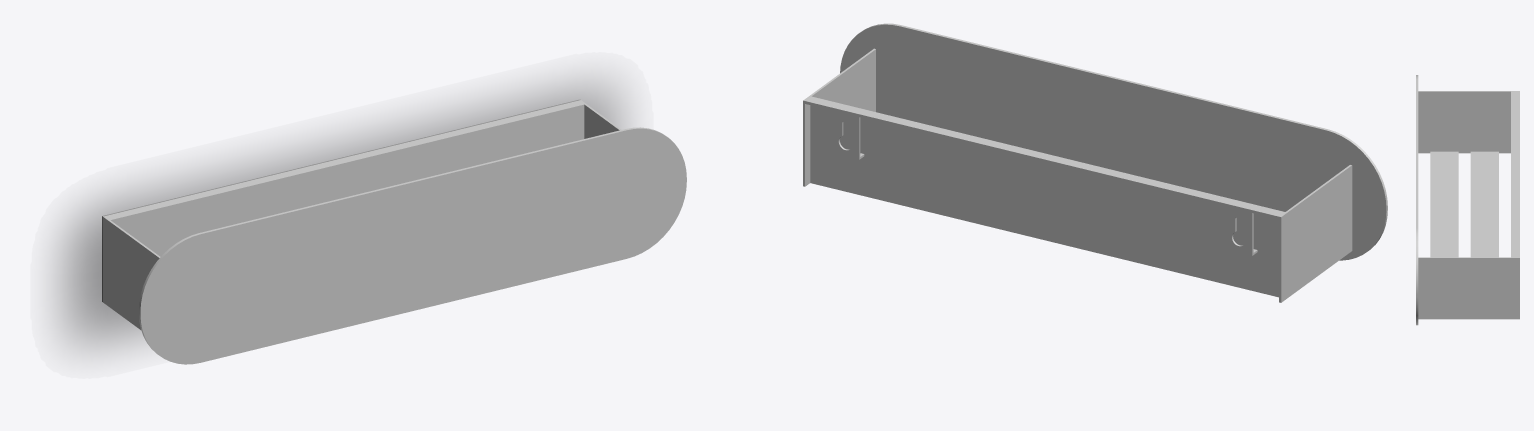
File: round-mono.54f7935312.ar.glb
3 renders of one model, left to right at view 1: azimuth 30°, elevation 25°; view 2: azimuth 150°, elevation 25°; view 3: azimuth 270°, elevation 25°, orthographic. The views are drawn at different scales.
Visible parts, largest first — view 1: NAUO1, object 2; view 2: NAUO1; view 3: NAUO1.
Part boxes in pixels (x1,y1,x2,y2): NAUO1: (102,99,686,364); object 2: (57,82,626,348); NAUO1: (803,23,1387,302); NAUO1: (1416,75,1519,325).
Bounding box in the file's own units: 0.48 × 0.17 × 0.092.
2 materials, 1 textured.
